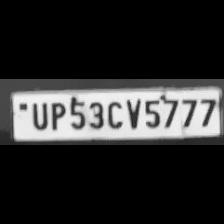3: (86, 98, 104, 130)
5: (141, 96, 161, 130), (66, 97, 86, 130)
7: (177, 96, 197, 128), (196, 96, 216, 128), (160, 96, 178, 128)
C: (104, 98, 124, 130)
P: (46, 100, 66, 132)
U: (28, 99, 50, 130)
V: (123, 96, 141, 130)
